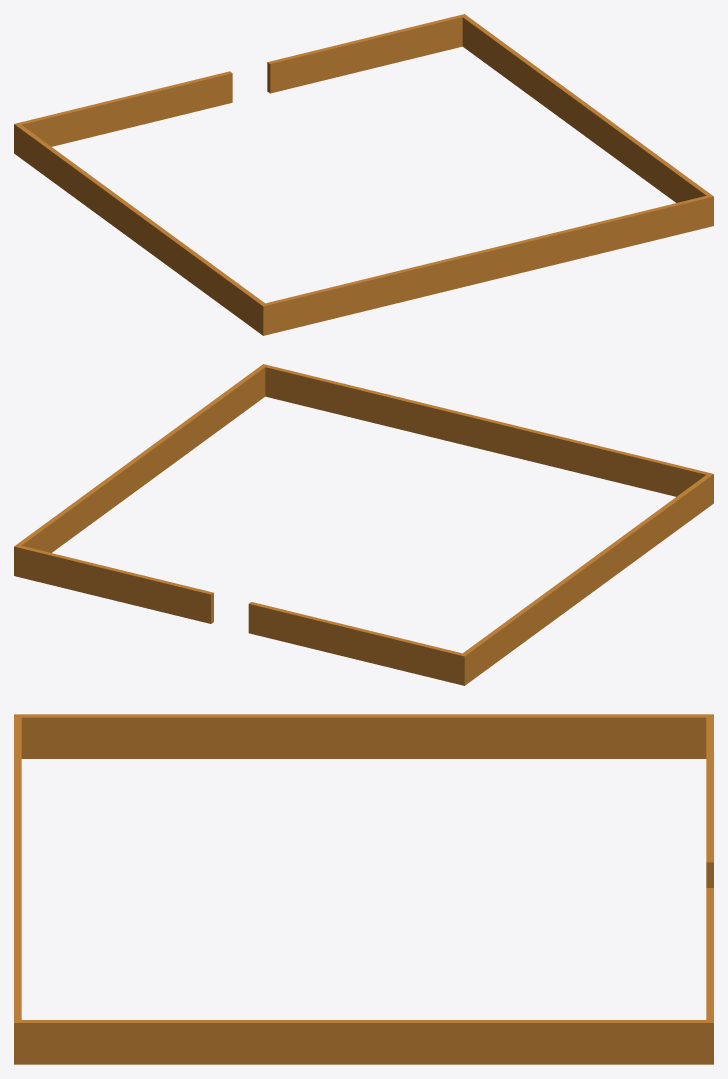
File: plot-2.obj
The picture shows the model from 3 angles, top to bottom: view 1: azimuth 30°, elevation 25°; view 2: azimuth 150°, elevation 25°; view 3: azimuth 270°, elevation 25°; orthographic projection. The views are drawn at different scales.
Size of the model in its own units: 9.6 by 0.6 by 9.2.
1 material, 1 textured.
